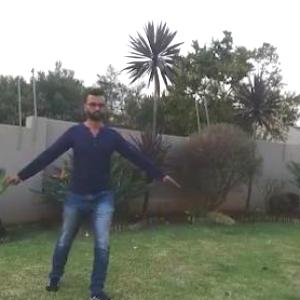land: (30, 96, 164, 260)
